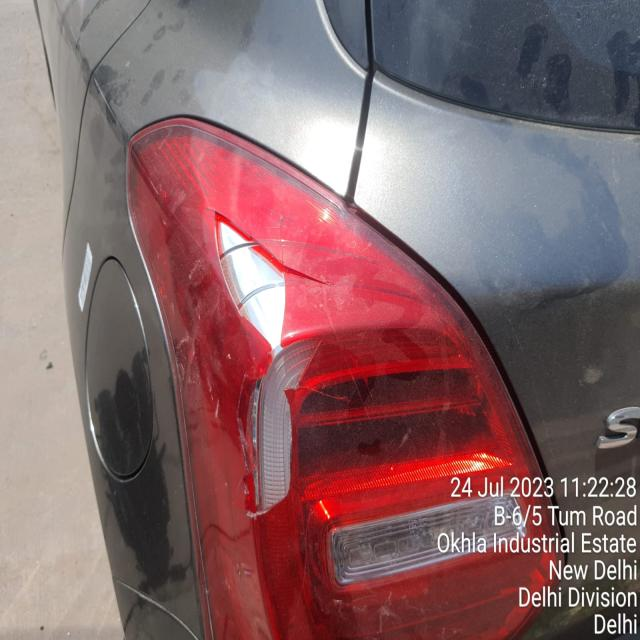damage: (192, 190, 342, 561)
